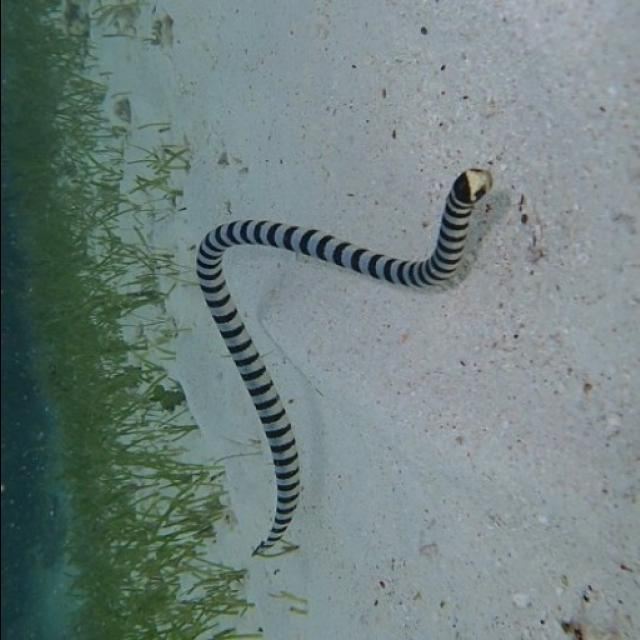snake: (178, 168, 514, 568)
